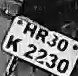0: (57, 56, 70, 76), (58, 37, 69, 54)
2: (23, 42, 36, 62), (36, 48, 47, 66)
3: (46, 54, 57, 71), (49, 32, 57, 49)
H: (24, 21, 37, 38)
K: (4, 34, 24, 53)
R: (36, 27, 47, 43)
